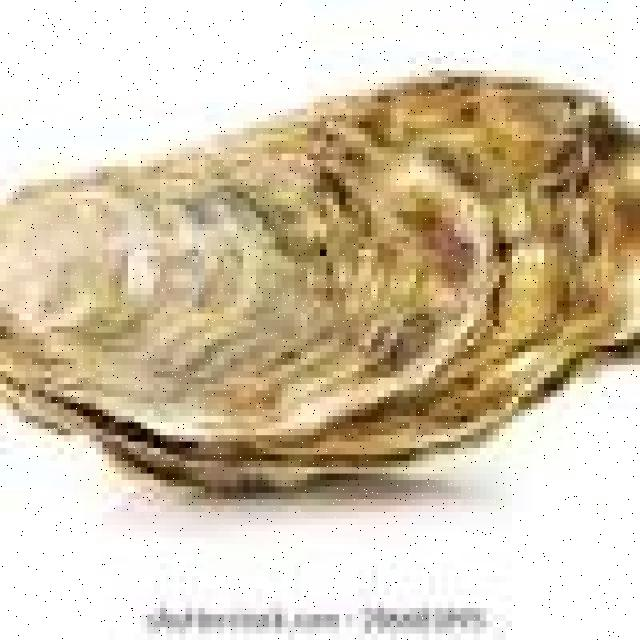Oyster-Closed: (0, 78, 621, 496)
